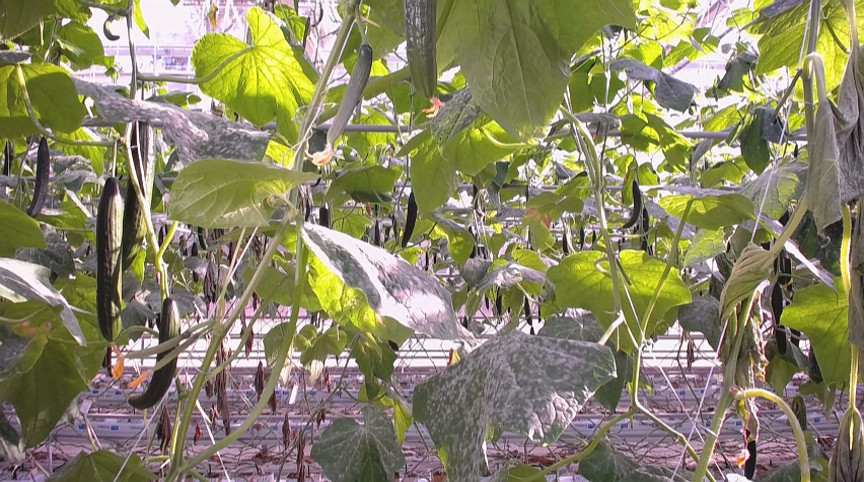cucumber: (131, 298, 180, 410), (121, 119, 156, 273), (326, 43, 374, 144), (97, 180, 121, 340), (402, 1, 437, 103), (27, 137, 51, 217), (400, 192, 419, 248), (622, 179, 641, 229)
